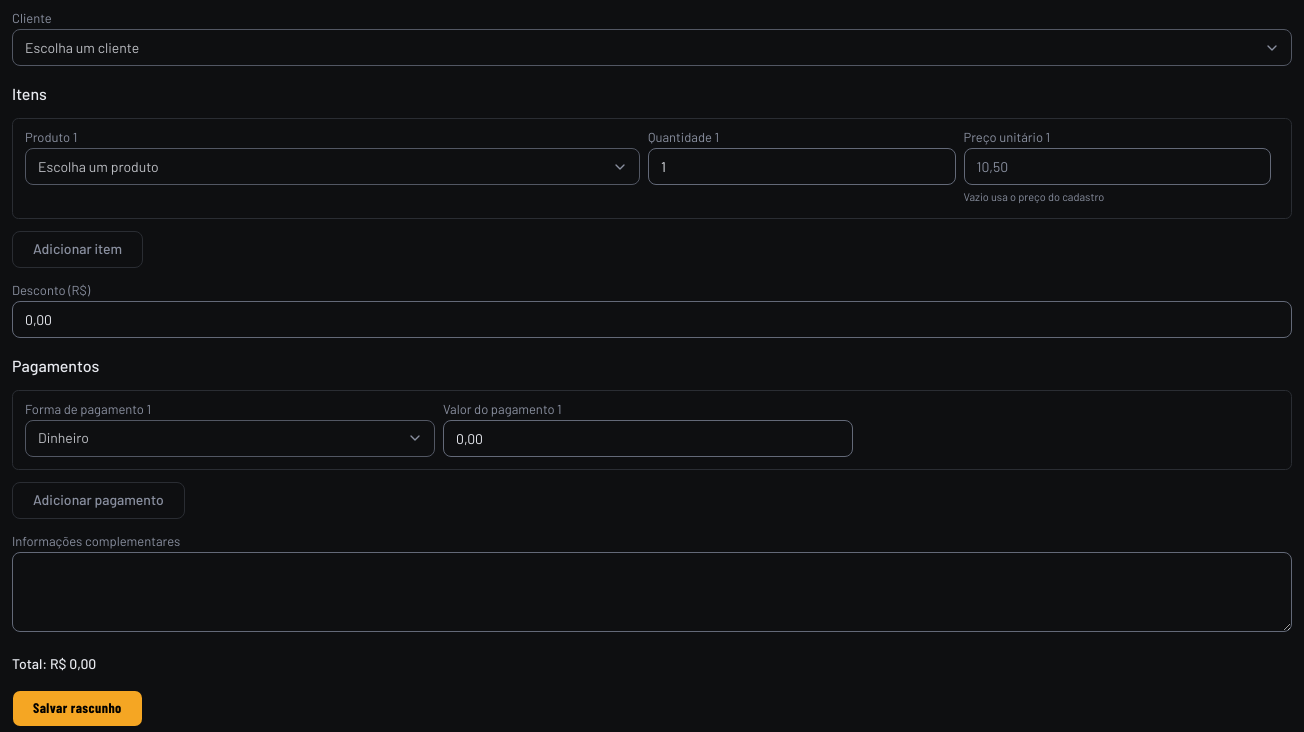
Test: NotaForm › pergunta se é consumidor final só para cliente PJ
Select "Maria Teste" in the dropdown labelled "Cliente" at [652, 48], box [12,29,1292,66]
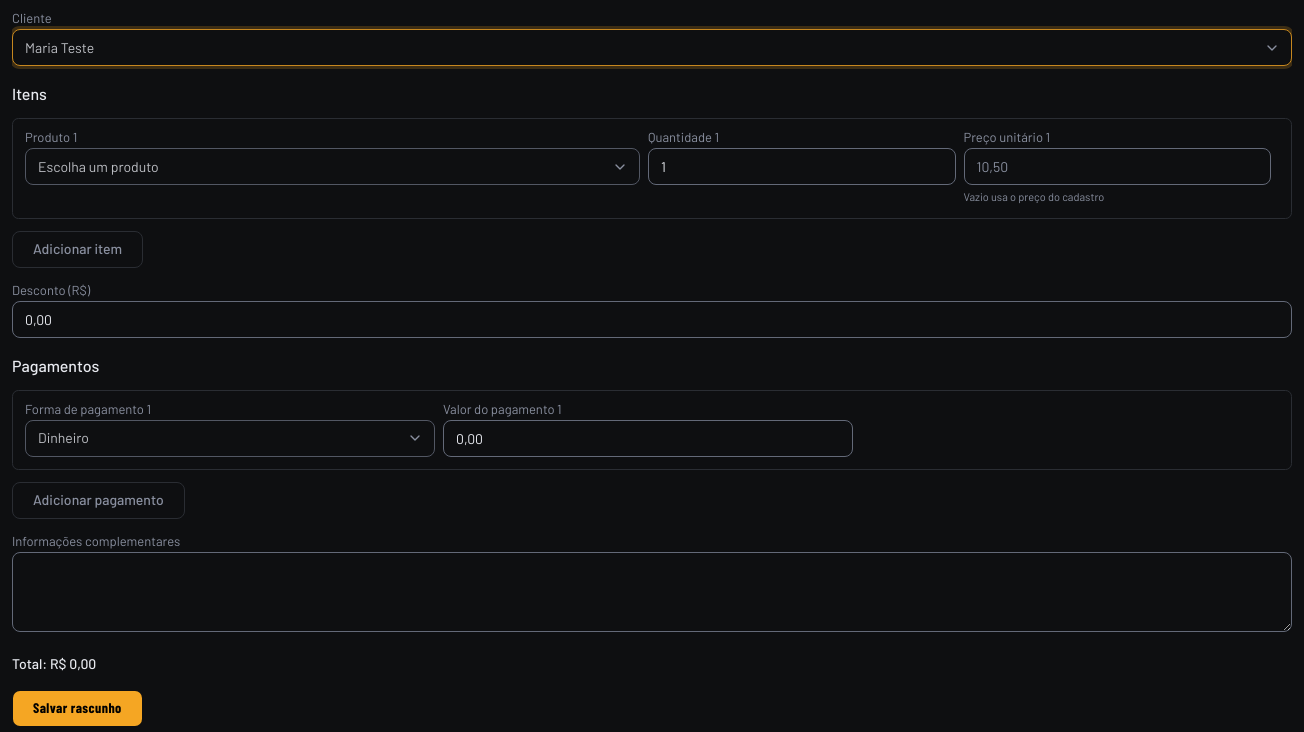
Expected: the field labelled "Consumidor final?" is not shown
Select "Empresa X" in the dropdown labelled "Cliente" at [652, 48], box [12,29,1292,66]
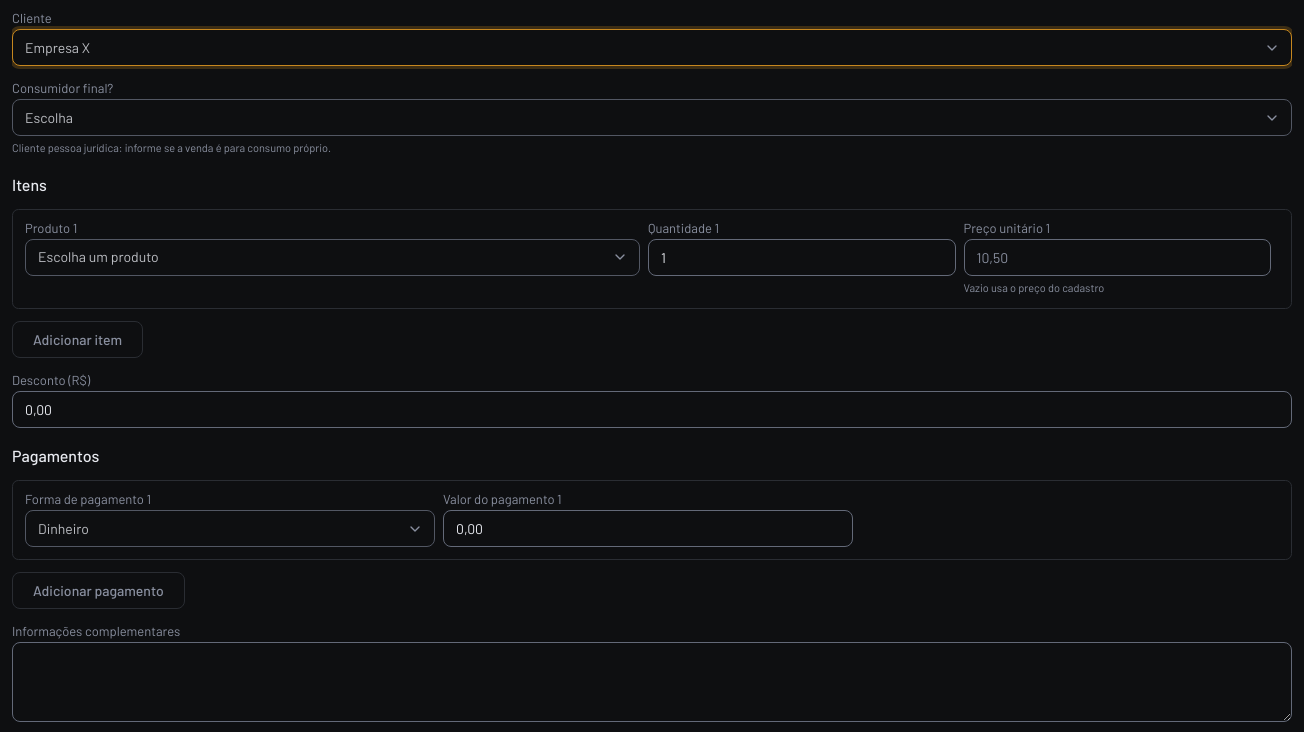
Expected: the dropdown labelled "Consumidor final?" is shown, [12,99,1292,136]
